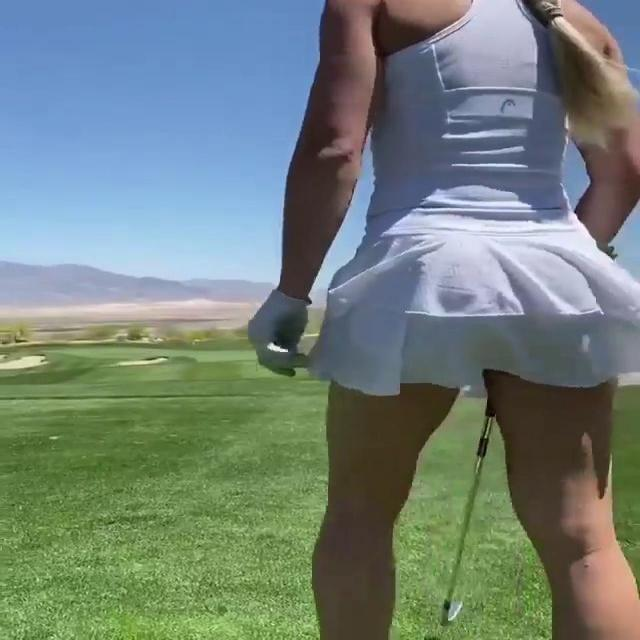golf club-handle: (441, 399, 495, 624)
golf club-head: (442, 601, 465, 623)
